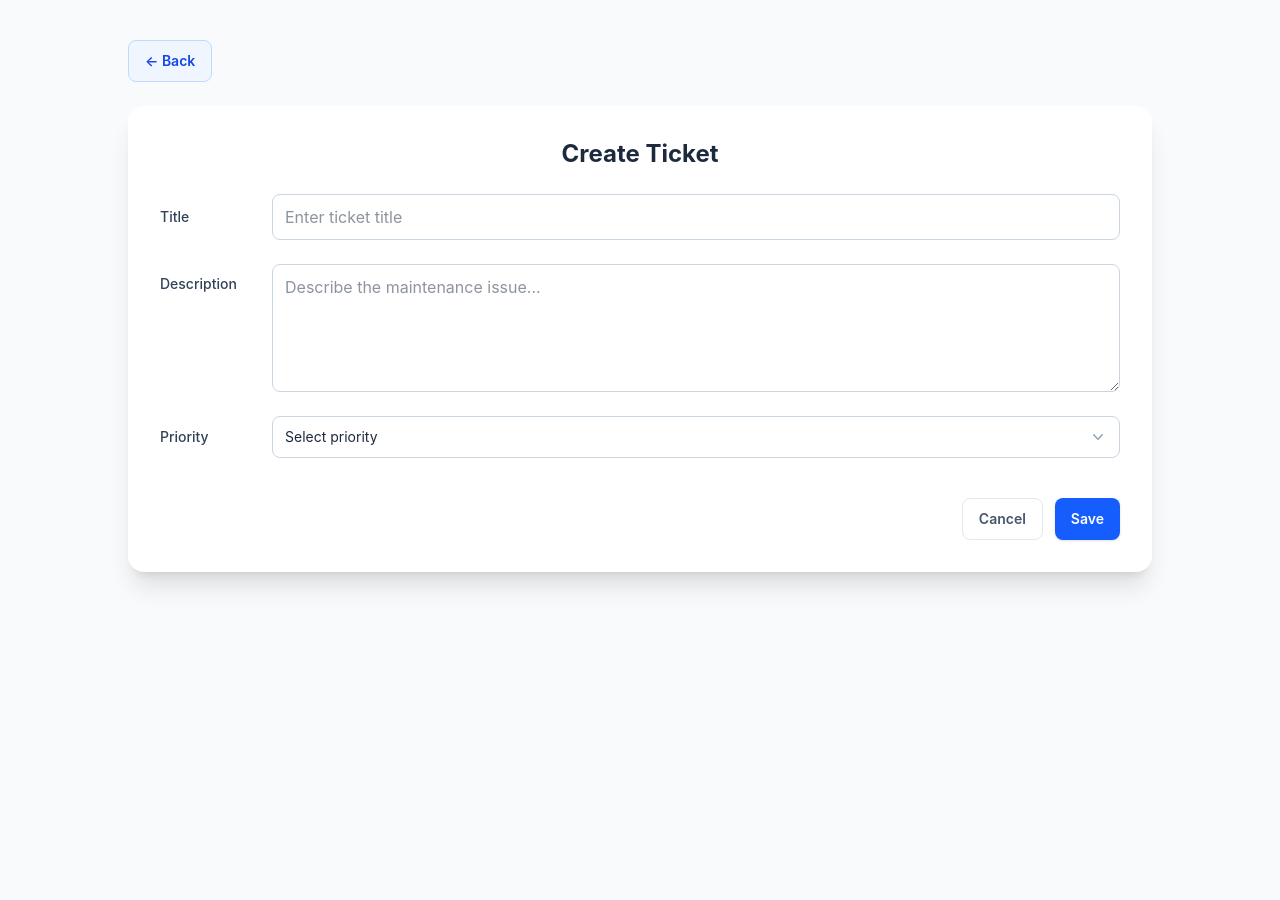
Test: CreateTicket page › shows an API error and preserves the form and confirmation modal
Type "Repair leaking pipe" into the field labelled "Title" at (696, 217), box [272,194,1120,240]
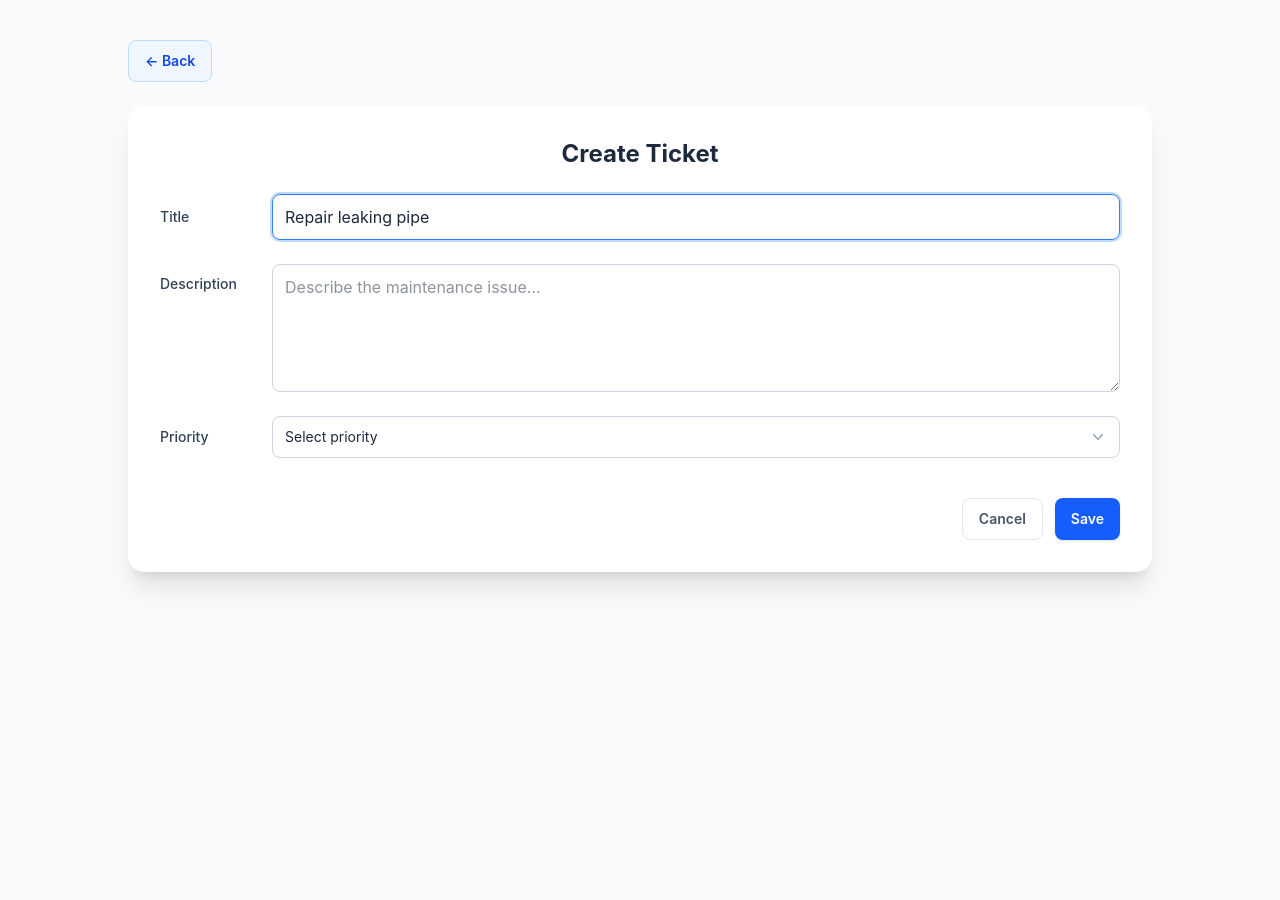
Type "Pipe leak in kitchen" into the text box labelled "Description" at (696, 328), box [272,264,1120,392]
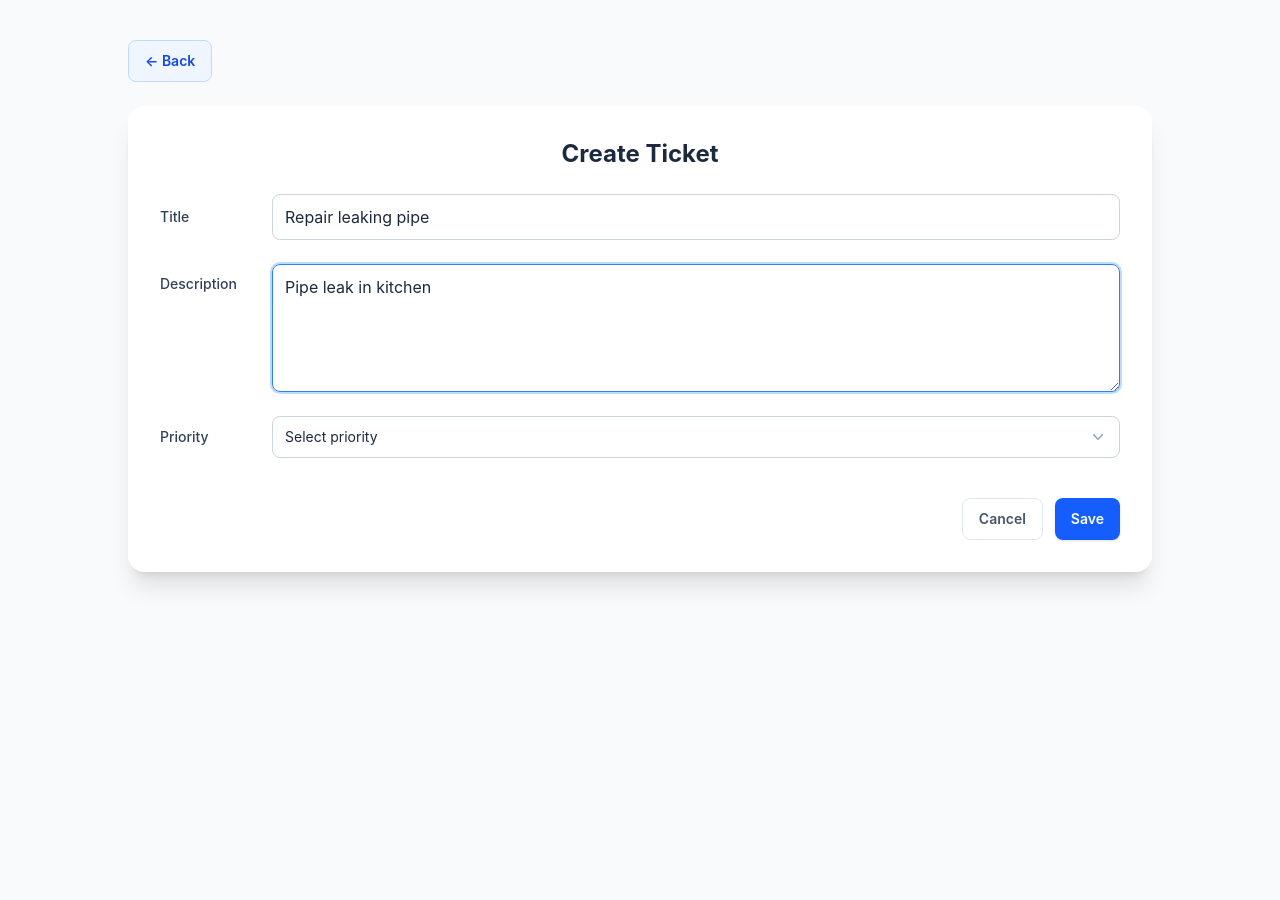
Select "High" in the dropdown labelled "Priority" at (696, 437), box [272,416,1120,458]
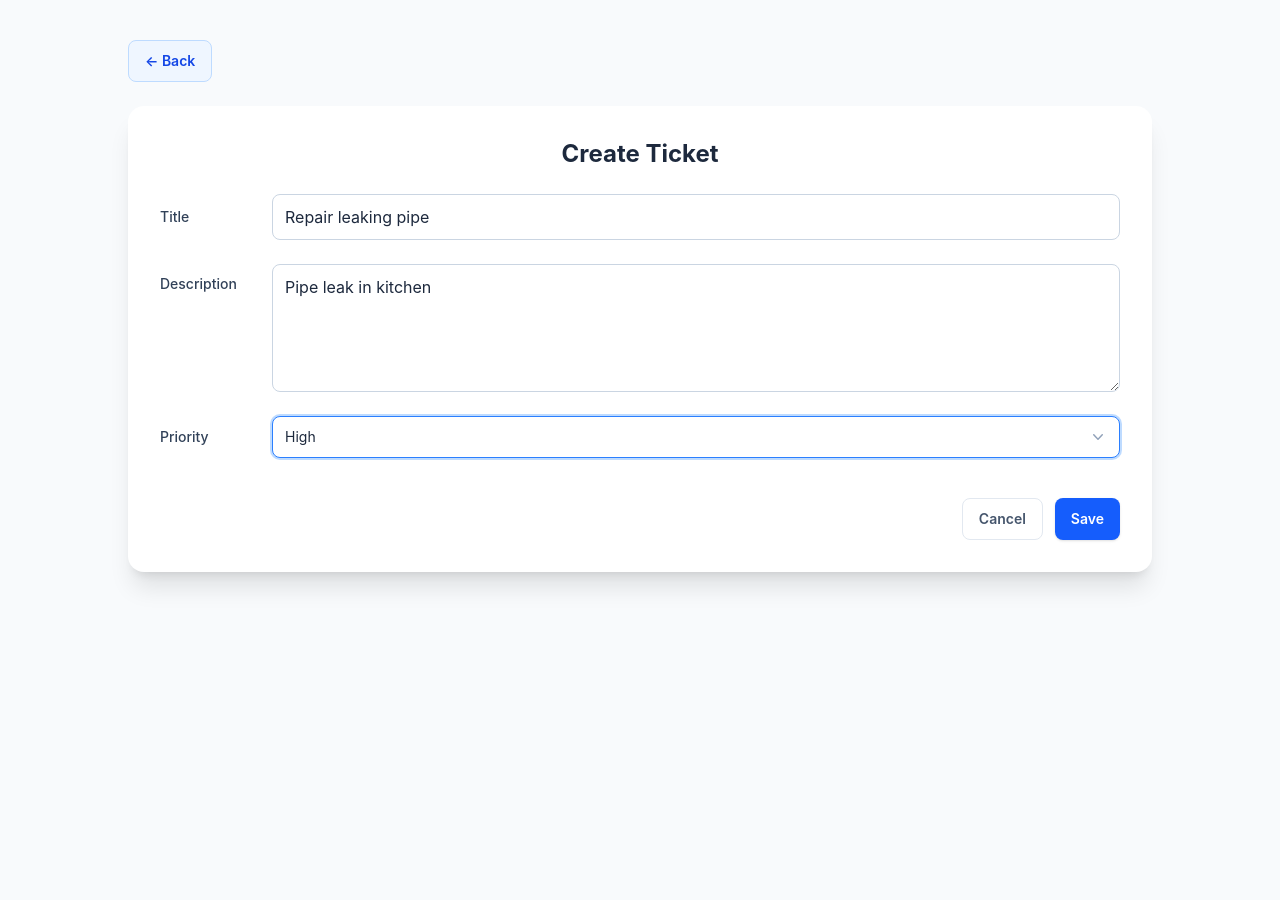
Click the button "Save" at (1087, 519), box [1055,498,1120,540]
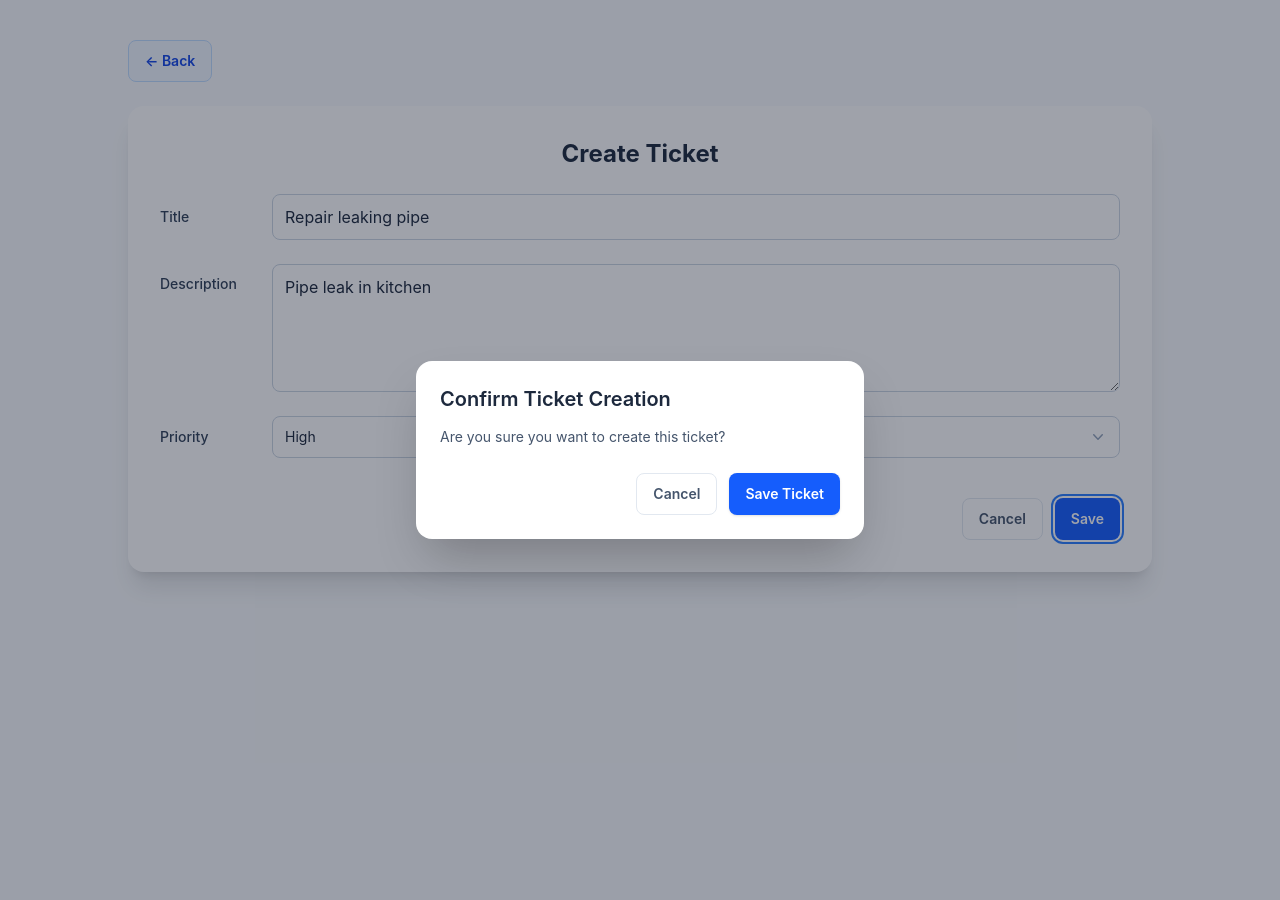
Click the button "Save Ticket" at (785, 494), box [729,473,840,515]
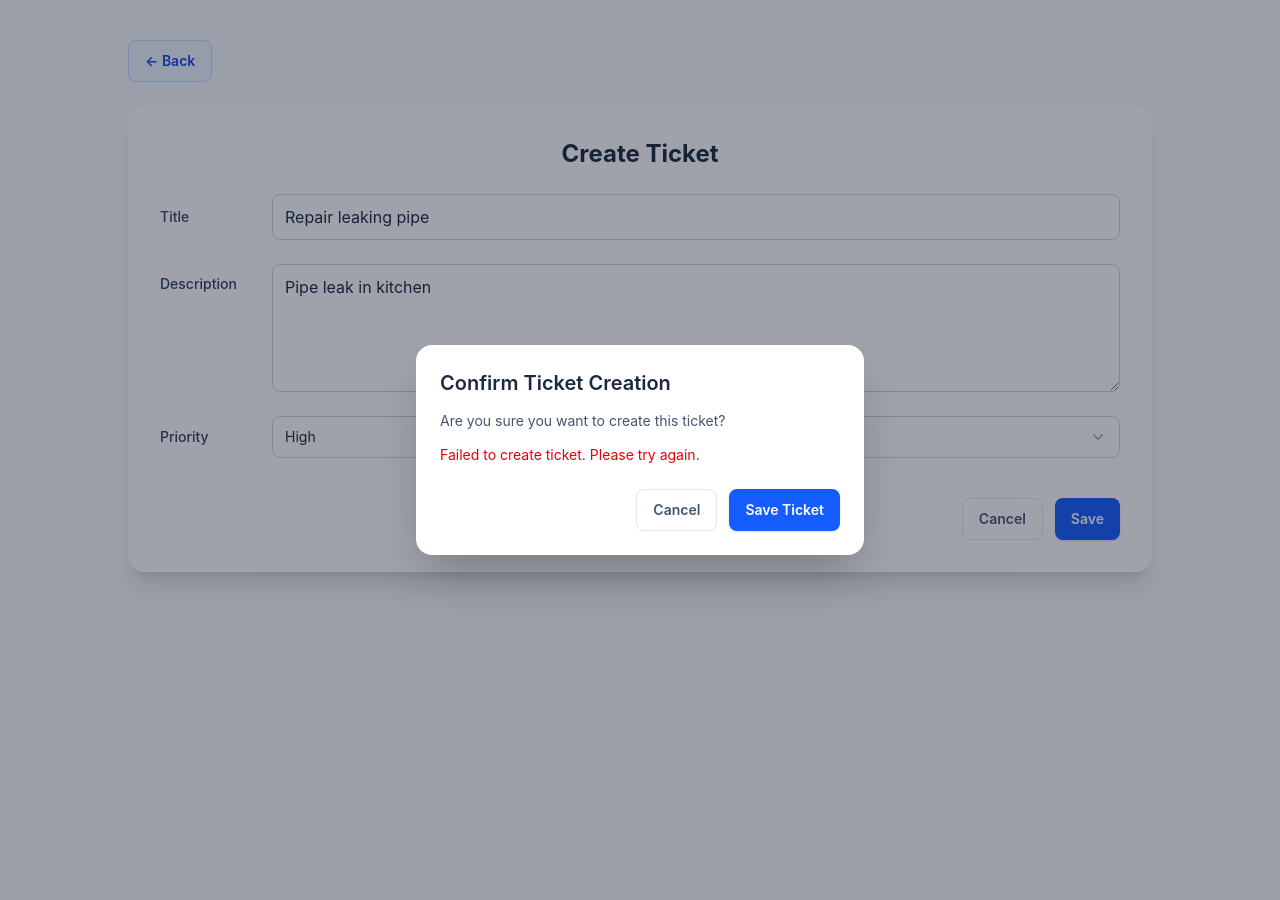
Now the heading "Confirm Ticket Creation" is shown, box [440,371,671,395]
Now the text "Failed to create ticket. Please try again." is shown, box [440,446,700,463]
